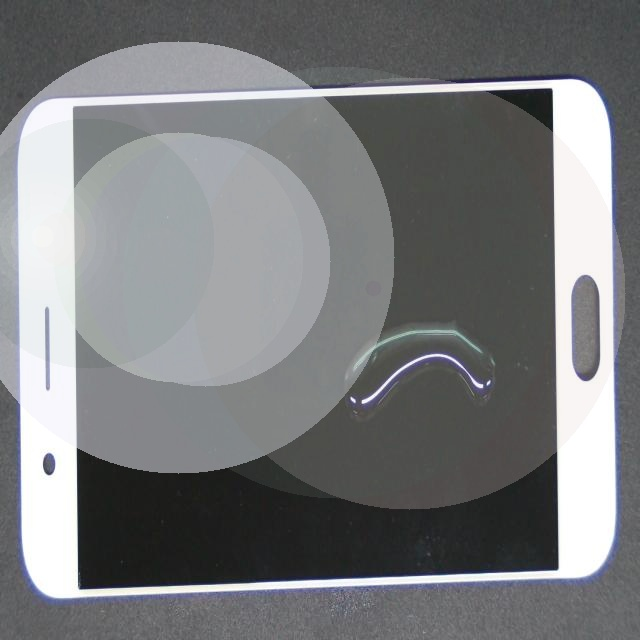oil: (218, 165, 640, 562)
